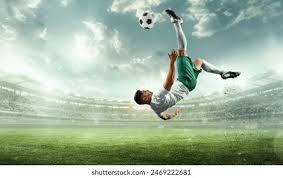football ball: (139, 11, 159, 29)
